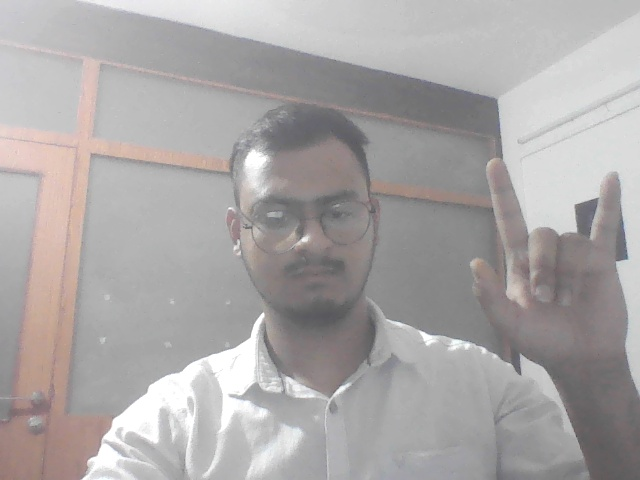I Love You: (451, 150, 640, 371)
